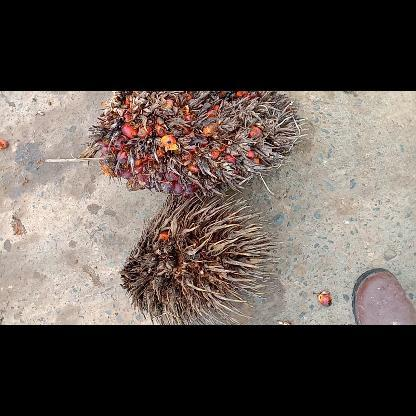Janjang kosong: (119, 194, 281, 324)
Terlalu masak: (47, 91, 307, 197)
